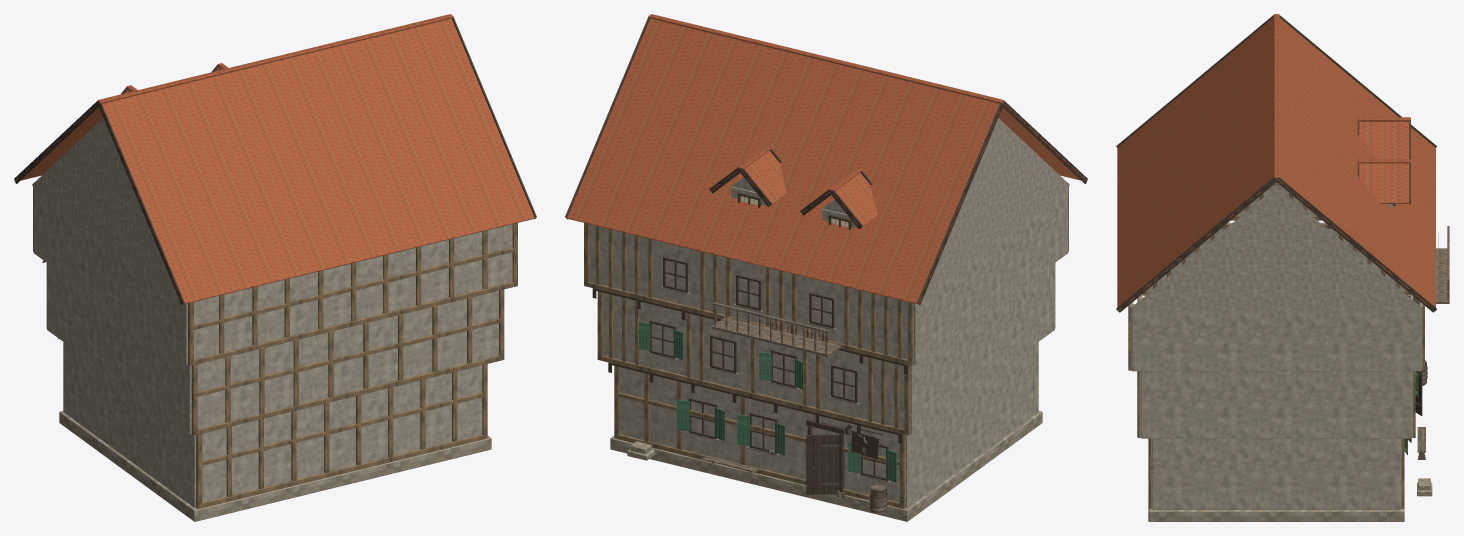
File: inn.gltf
The picture shows the model from 3 angles, left to right: view 1: azimuth 30°, elevation 25°; view 2: azimuth 150°, elevation 25°; view 3: azimuth 270°, elevation 25°; orthographic projection. The views are drawn at different scales.
Parts seen in each view (by area): view 1: inn; view 2: inn; view 3: inn.
Part boxes in pixels (<box>): inn: <box>14,14,536,521</box>; inn: <box>565,14,1087,521</box>; inn: <box>1116,14,1449,521</box>.
Size of the model in its own units: 14.02 by 14.35 by 12.1.
11 materials, 11 textured.
